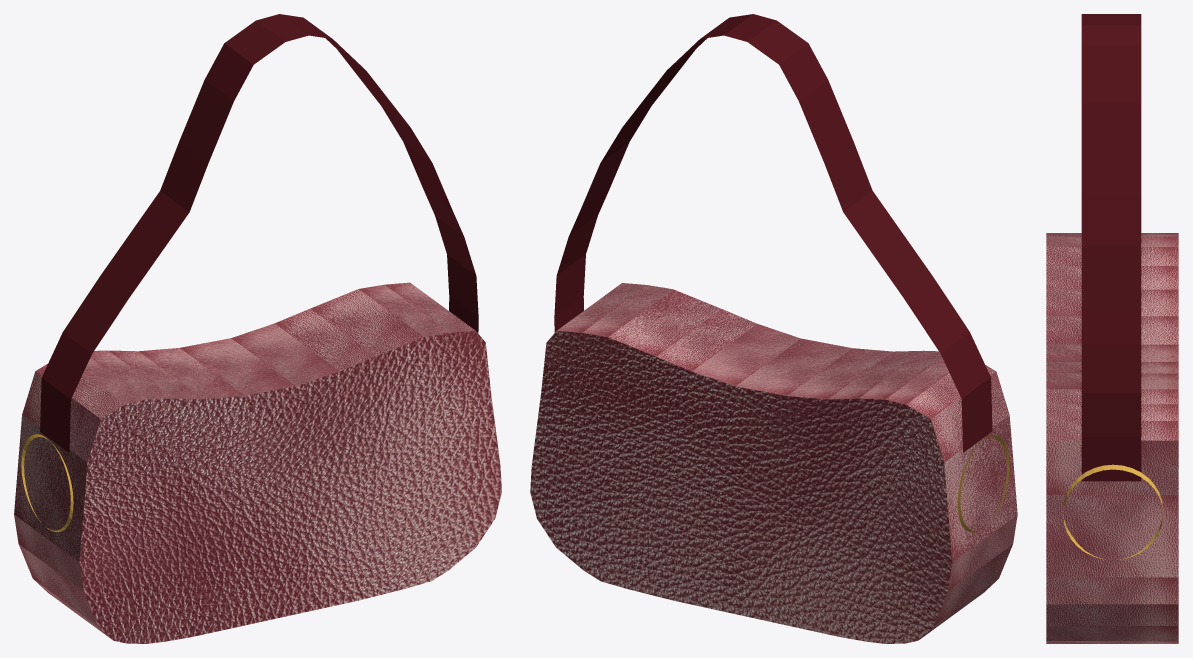
File: assignment2B.glb
3 views of the same model, side by side, from view 1: azimuth 30°, elevation 25°; view 2: azimuth 150°, elevation 25°; view 3: azimuth 270°, elevation 25° (orthographic).
Parts seen in each view (by area): view 1: Plane.001; view 2: Plane.001; view 3: Plane.001.
Part boxes in pixels (<box>): Plane.001: <box>14,14,501,643</box>; Plane.001: <box>530,14,1017,643</box>; Plane.001: <box>1046,14,1178,643</box>.
Size of the model in its own units: 1.58 by 2 by 0.4231.
Materials: 4 (1 with a texture image).
